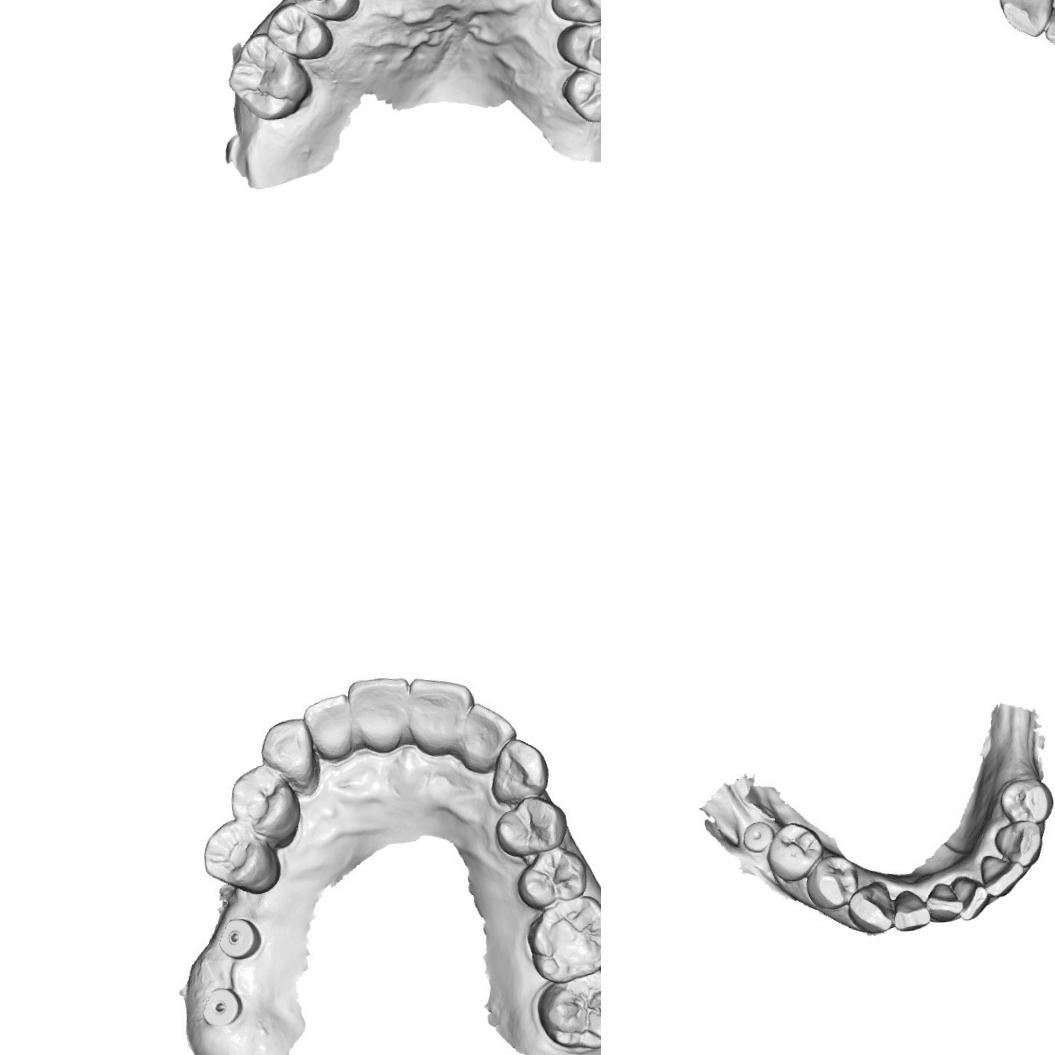canine: (258, 717, 320, 790), (494, 740, 550, 796), (846, 888, 894, 939), (996, 0, 1055, 38), (993, 820, 1038, 864), (545, 0, 601, 24)
implant: (198, 980, 246, 1037), (214, 918, 260, 962), (741, 808, 770, 854)
incisor: (410, 675, 473, 756), (345, 673, 408, 751), (302, 693, 358, 764), (462, 707, 511, 763), (954, 873, 988, 914), (899, 890, 930, 932), (928, 880, 959, 917), (981, 860, 1016, 892)
molar: (224, 28, 316, 122), (533, 898, 601, 979), (540, 971, 601, 1053)
premolar: (202, 818, 274, 890), (229, 764, 298, 834), (493, 794, 565, 860), (263, 0, 334, 64), (520, 846, 581, 904), (551, 15, 601, 79), (768, 822, 818, 878), (804, 854, 854, 908), (560, 65, 601, 127), (1005, 779, 1051, 820), (287, 0, 358, 25)
